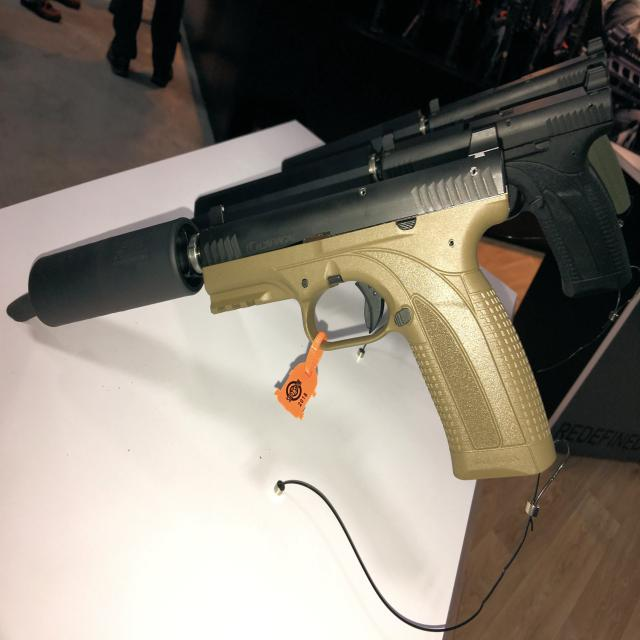Gun: (9, 44, 614, 500)
